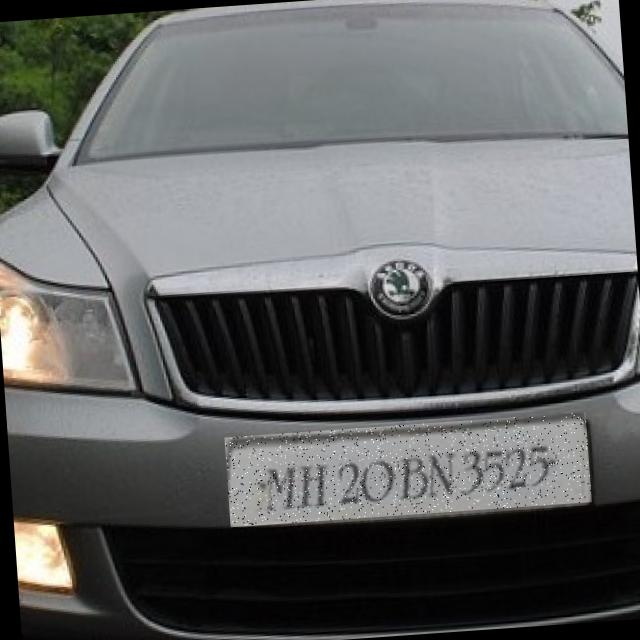Plate: (225, 413, 592, 528)
